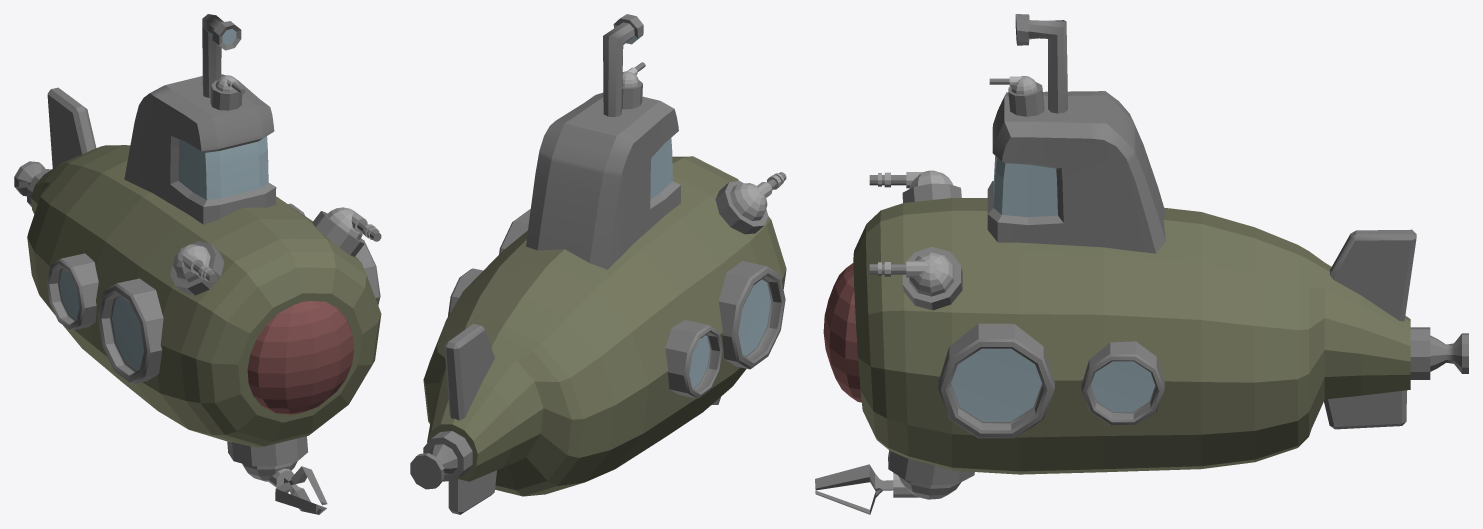
The model's file is Submarine with Grapple and Gun Upgrade 2.fbx.
3 renders of one model, left to right at view 1: azimuth 30°, elevation 25°; view 2: azimuth 150°, elevation 25°; view 3: azimuth 270°, elevation 25°, orthographic. The views are drawn at different scales.
Parts seen in each view (by area): view 1: Starting_Submarine, Gun_Upgrade_3, Grapple_upgrade; view 2: Starting_Submarine, Gun_Upgrade_3; view 3: Starting_Submarine, Gun_Upgrade_3, Grapple_upgrade.
Part boxes in pixels (box(x1,y1,x2,y2)): Starting_Submarine: box(14, 14, 381, 447); Gun_Upgrade_3: box(170, 207, 381, 295); Grapple_upgrade: box(227, 436, 327, 514); Starting_Submarine: box(410, 14, 786, 514); Gun_Upgrade_3: box(715, 172, 786, 234); Starting_Submarine: box(823, 14, 1468, 474); Gun_Upgrade_3: box(869, 170, 962, 310); Grapple_upgrade: box(815, 450, 974, 514).
Bounding box in the file's own units: 4.28 × 7.55 × 9.03.
